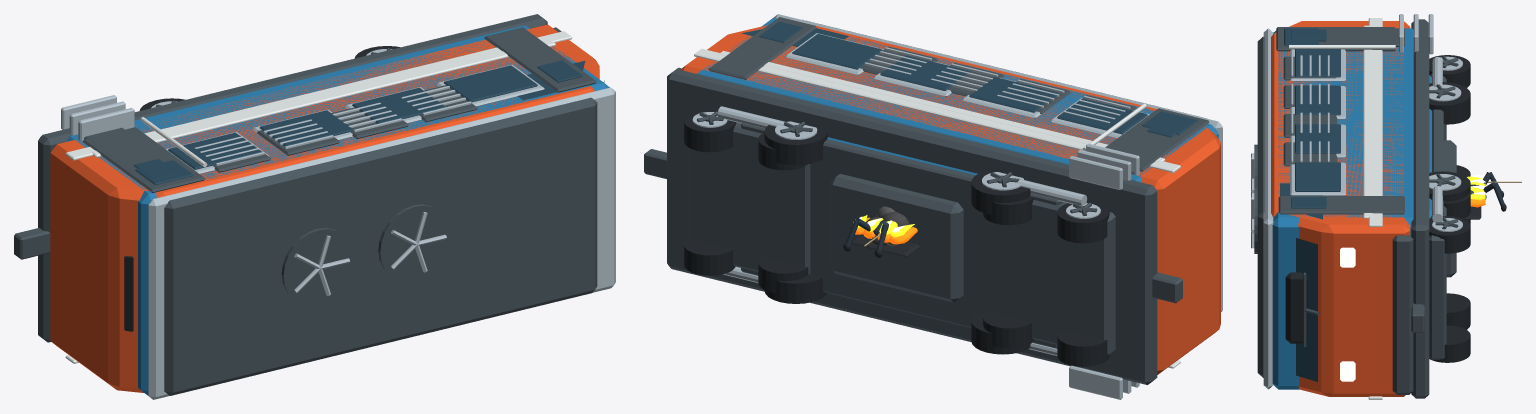
File: mission-assets-v1.glb
3 views of the same model, side by side, from view 1: azimuth 30°, elevation 25°; view 2: azimuth 150°, elevation 25°; view 3: azimuth 270°, elevation 25° (orthographic). The views are drawn at different scales.
Visible parts, largest first — view 1: Locomotive_Mission_Steel.002, Locomotive_Mission_Orange.002, Wagon_Mission_Blue.003, Wagon_Mission_Silver.002, Wagon_Mission_Glass.002, Wagon_Mission_Steel.002, Locomotive_Mission_Silver.002, Locomotive_Mission_Ivory.002, Wagon_Mission_Ivory.002, Locomotive_Mission_Glass.002, Wagon_Mission_Rubber.002; view 2: Locomotive_Mission_Steel.002, Wagon_Mission_Steel.002, Locomotive_Mission_Orange.002, Car_Mission_Steel.002, Wagon_Mission_Blue.003, Locomotive_Mission_Silver.002, Wagon_Mission_Glass.002, Locomotive_Mission_Rubber.002, Wagon_Mission_Silver.002, Car_Mission_Rubber.002, Wagon_Mission_Rubber.002, Locomotive_Mission_Ivory.002 (+5 smaller); view 3: Locomotive_Mission_Orange.002, Locomotive_Mission_Steel.002, Wagon_Mission_Blue.003, Wagon_Mission_Steel.002, Wagon_Mission_Glass.002, Wagon_Mission_Silver.002, Locomotive_Mission_Silver.002, Locomotive_Mission_Rubber.002, Wagon_Mission_Rubber.002, Locomotive_Mission_Glass.002, Locomotive_Mission_Ivory.002, Car_Mission_Rubber.002 (+6 smaller).
Part boxes in pixels (x1,y1,x2,y2): Locomotive_Mission_Steel.002: [14, 14, 597, 395]; Locomotive_Mission_Orange.002: [50, 24, 599, 392]; Wagon_Mission_Blue.003: [66, 25, 609, 395]; Wagon_Mission_Silver.002: [148, 64, 615, 399]; Wagon_Mission_Glass.002: [134, 60, 582, 179]; Wagon_Mission_Steel.002: [37, 18, 596, 253]; Locomotive_Mission_Silver.002: [61, 86, 471, 295]; Locomotive_Mission_Ivory.002: [65, 31, 572, 363]; Wagon_Mission_Ivory.002: [92, 40, 555, 157]; Locomotive_Mission_Glass.002: [135, 61, 604, 184]; Wagon_Mission_Rubber.002: [124, 256, 133, 331]; Locomotive_Mission_Steel.002: [644, 19, 1209, 384]; Wagon_Mission_Steel.002: [661, 17, 1202, 380]; Locomotive_Mission_Orange.002: [680, 25, 1220, 374]; Car_Mission_Steel.002: [741, 121, 1062, 348]; Wagon_Mission_Blue.003: [697, 17, 1218, 182]; Locomotive_Mission_Silver.002: [692, 47, 1139, 399]; Wagon_Mission_Glass.002: [759, 21, 1190, 137]; Locomotive_Mission_Rubber.002: [684, 110, 1109, 366]; Wagon_Mission_Silver.002: [694, 14, 1222, 355]; Car_Mission_Rubber.002: [764, 125, 1030, 354]; Wagon_Mission_Rubber.002: [684, 110, 1109, 365]; Locomotive_Mission_Ivory.002: [694, 48, 1180, 368]; Locomotive_Mission_Orange.002: [1271, 21, 1410, 396]; Locomotive_Mission_Steel.002: [1254, 19, 1458, 398]; Wagon_Mission_Blue.003: [1272, 28, 1413, 389]; Wagon_Mission_Steel.002: [1278, 26, 1458, 359]; Wagon_Mission_Glass.002: [1291, 29, 1340, 208]; Wagon_Mission_Silver.002: [1263, 28, 1462, 389]; Locomotive_Mission_Silver.002: [1251, 14, 1462, 248]; Locomotive_Mission_Rubber.002: [1429, 55, 1470, 362]; Wagon_Mission_Rubber.002: [1285, 55, 1470, 343]; Locomotive_Mission_Glass.002: [1280, 28, 1322, 381]; Locomotive_Mission_Ivory.002: [1289, 18, 1395, 399]; Car_Mission_Rubber.002: [1429, 82, 1470, 329].
Bounding box in the file's own units: 6.6 × 2.73 × 3.28.
